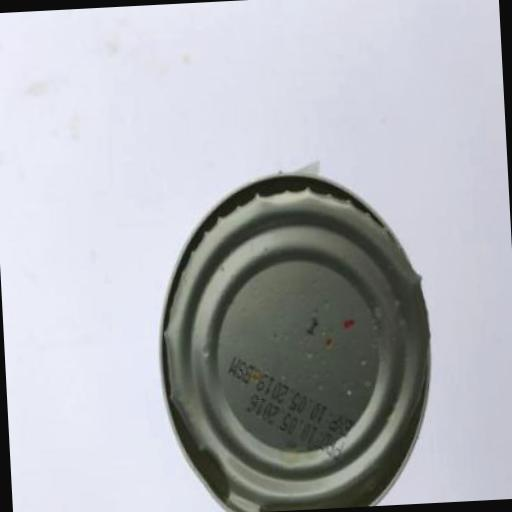metal: (149, 159, 440, 512)
